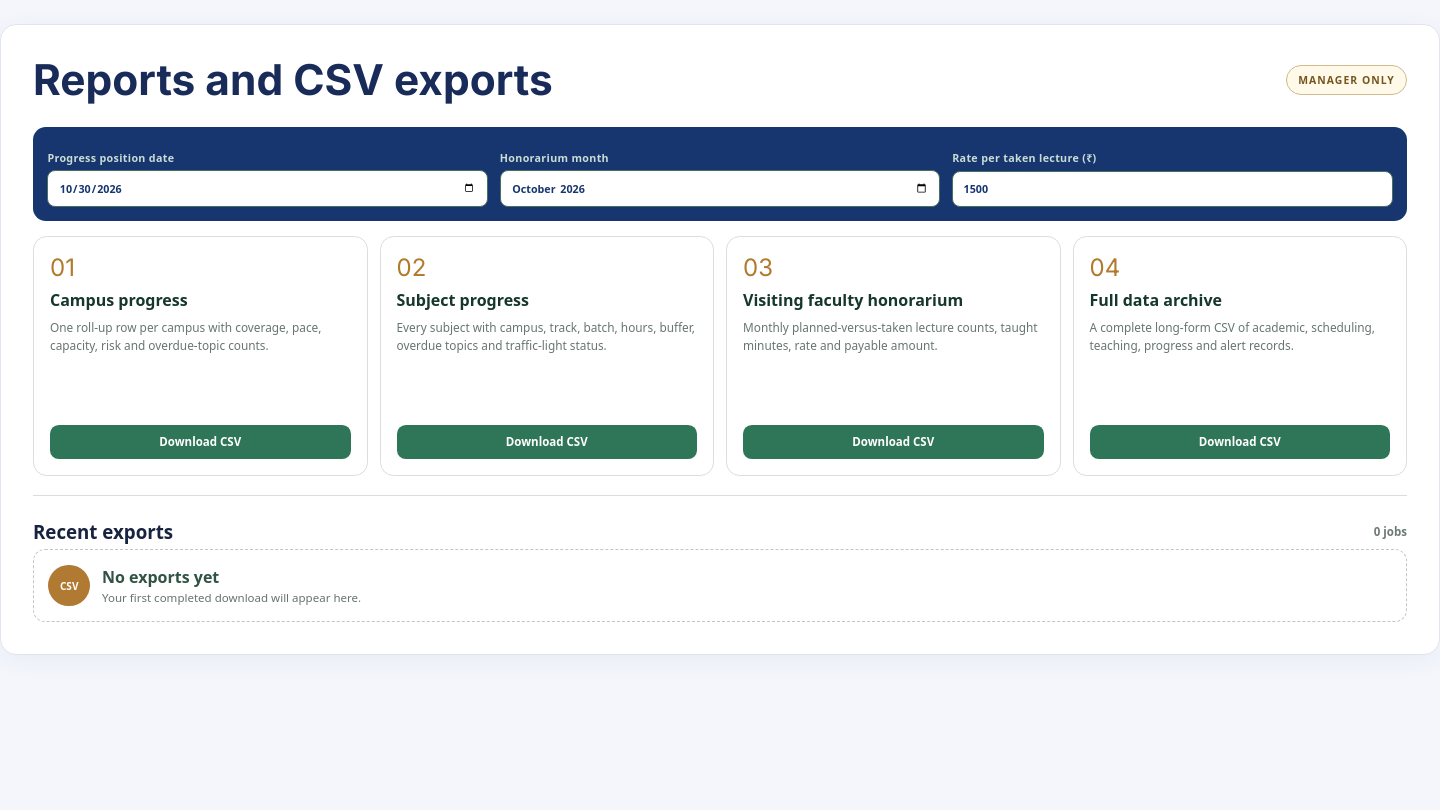
it: ExportCenter › downloads a dated campus progress CSV and refreshes the audit history
Expected: the text "No exports yet" is shown, x1=102 y1=566 x2=219 y2=588
Type "2026-10-08" into the date field labelled "Progress position date" at (268, 189), box x1=47 y1=170 x2=488 y2=207
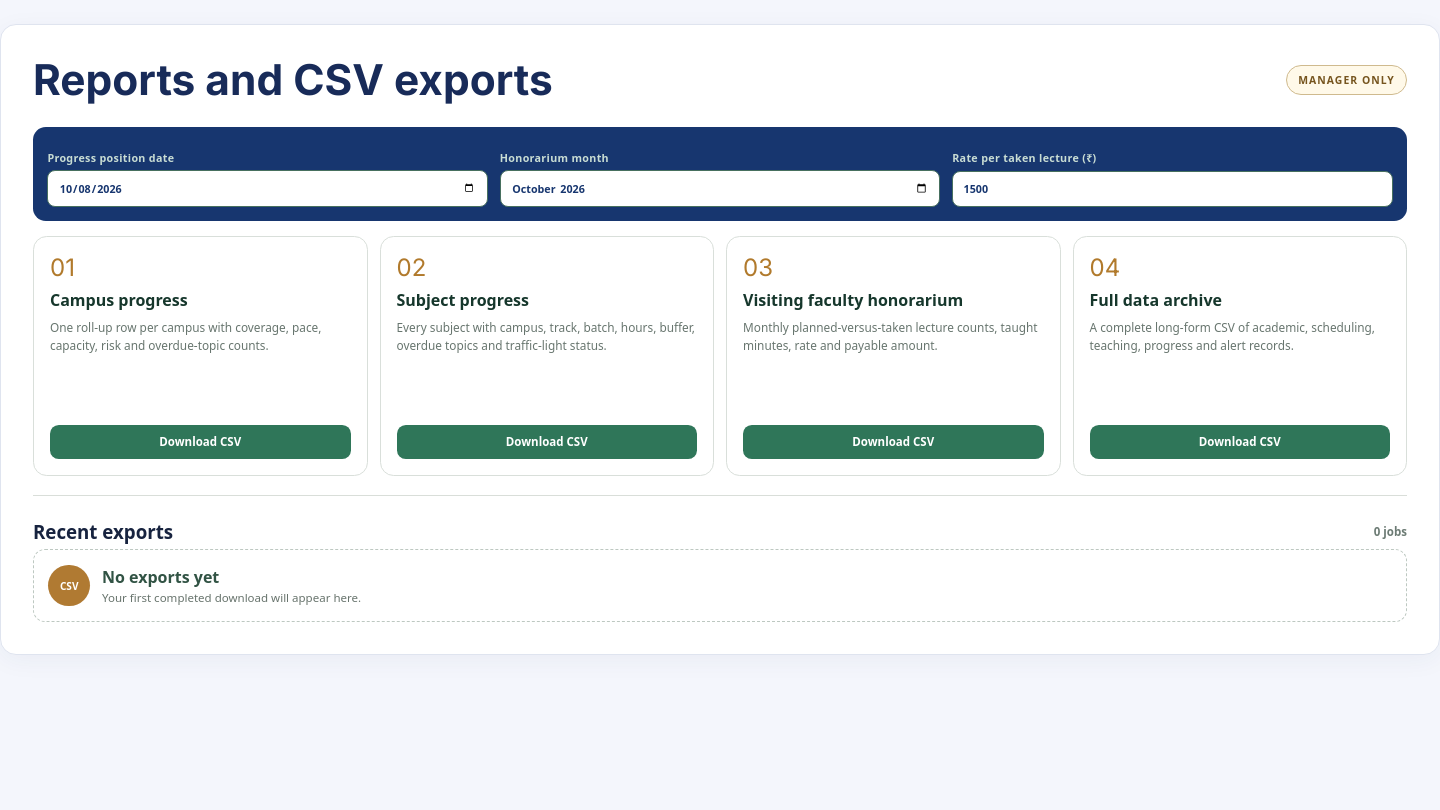
Click the button "Download CSV" below "Campus progress" at (200, 442), box x1=50 y1=425 x2=350 y2=459
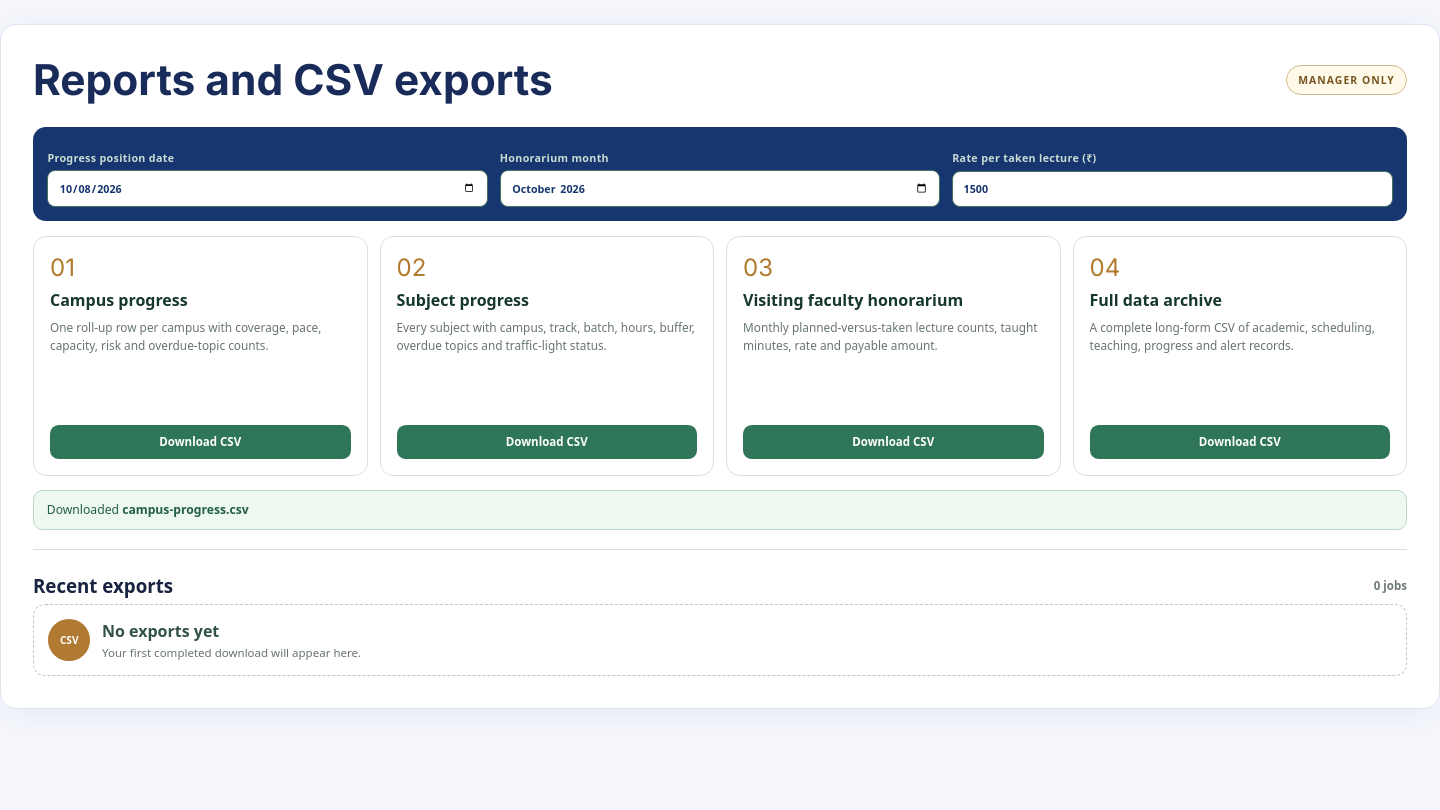
Now the text "campus-progress.csv" is shown, box x1=122 y1=502 x2=249 y2=518
